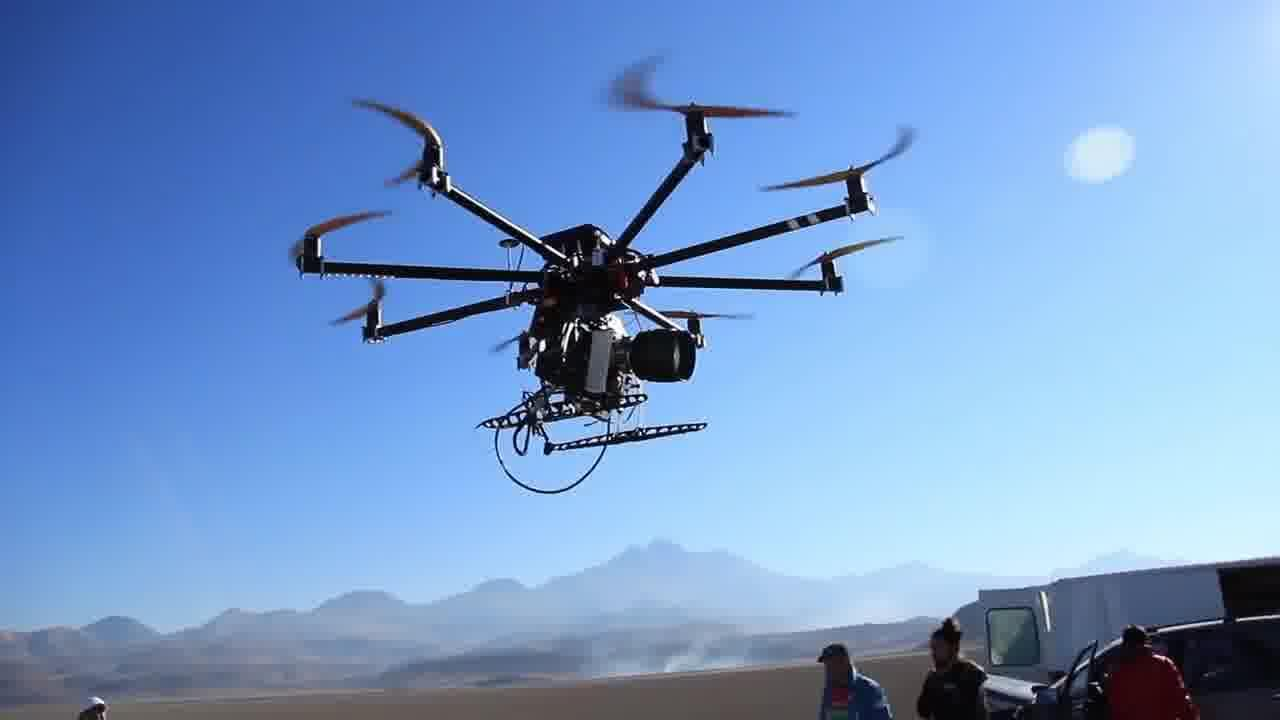drone: (289, 31, 851, 410)
